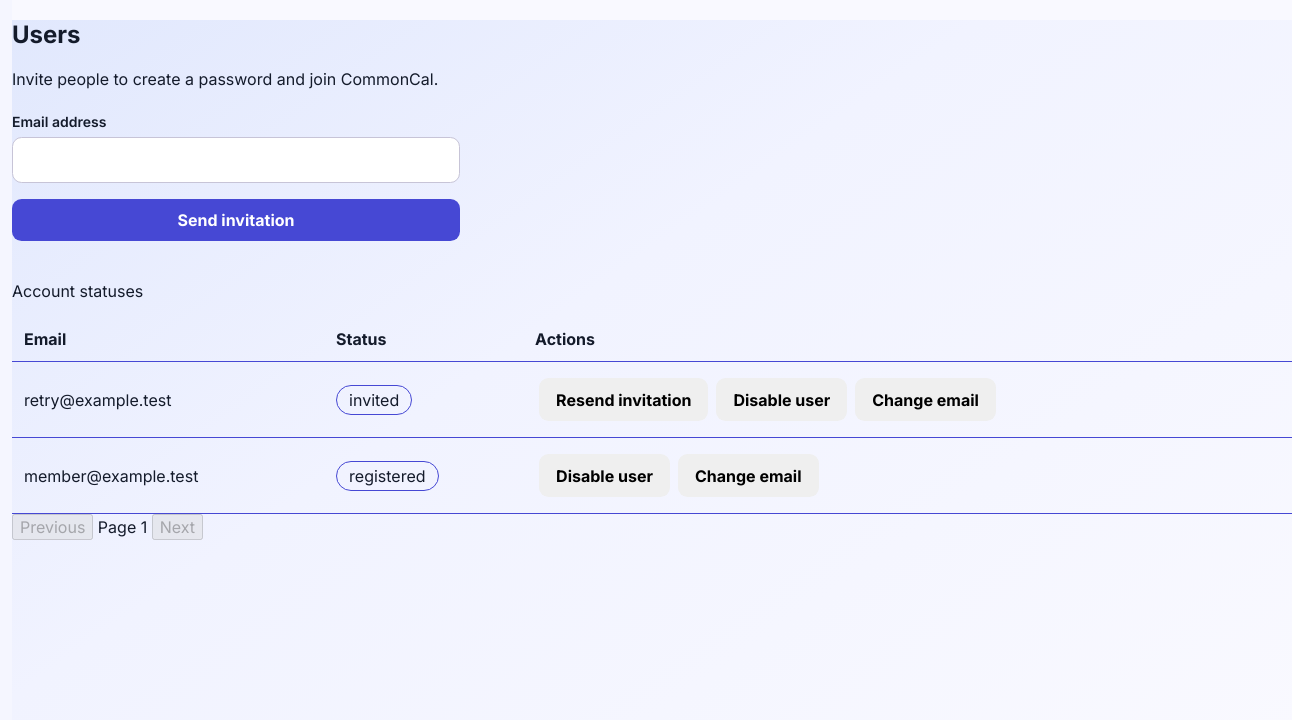
shows resend only for invited accounts and retries after delivery failure
The width and height of the screenshot is (1292, 720).
Click the button "Resend invitation" at coordinates (624, 400), box [539,378,708,421]
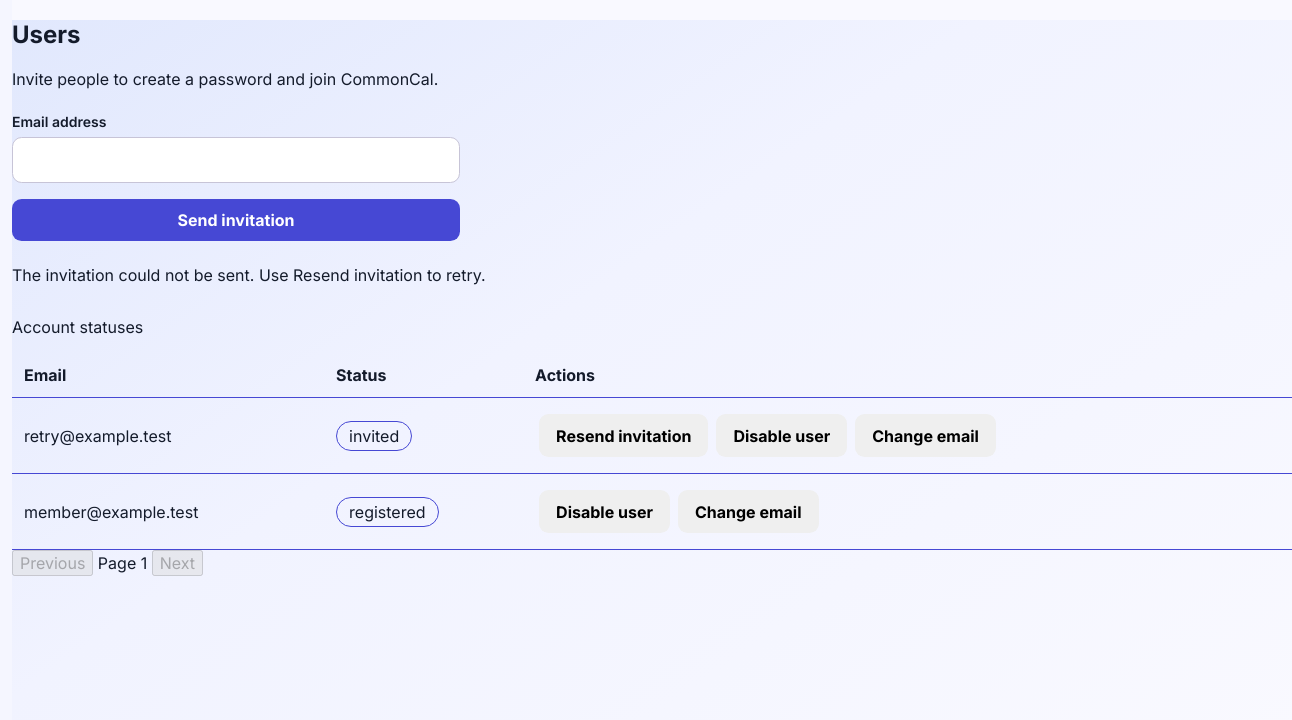
Now the message shows "Use Resend invitation to retry.", box [12,265,486,285]
Click the button "Resend invitation" at coordinates (624, 436), box [539,414,708,457]
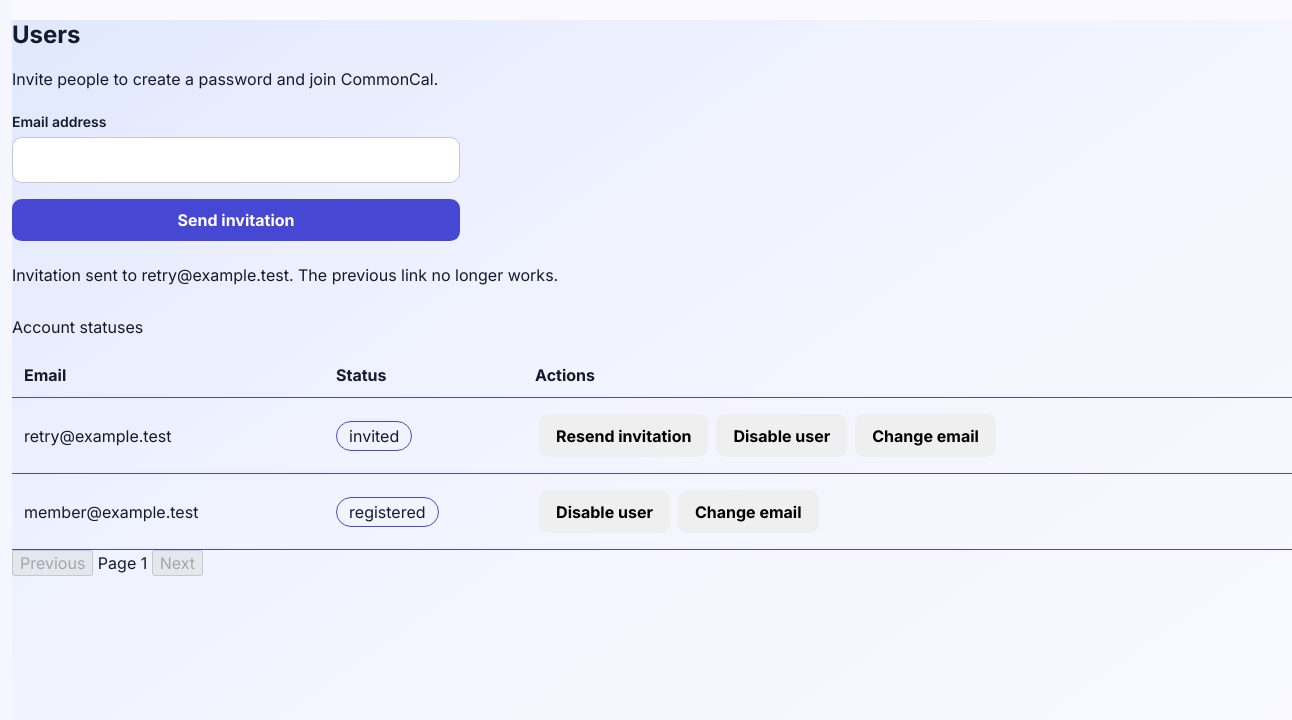
Expected: the number of buttons "Resend invitation" is 1, [539,414,708,457]
Now the message shows "The previous link no longer works.", box [12,265,558,285]
